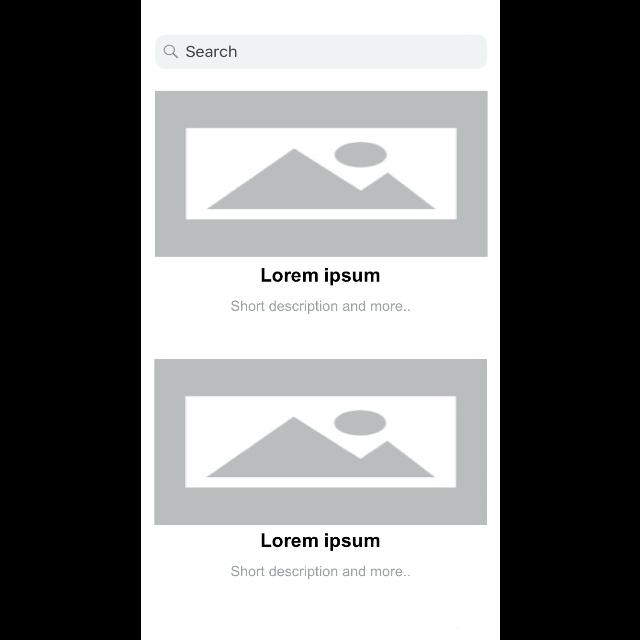icon: (162, 45, 178, 59)
image: (154, 358, 488, 526), (154, 91, 488, 257)
input: (155, 34, 487, 70)
text: (230, 300, 410, 314), (230, 566, 410, 578), (261, 268, 379, 286), (261, 532, 379, 550), (186, 46, 237, 58)
